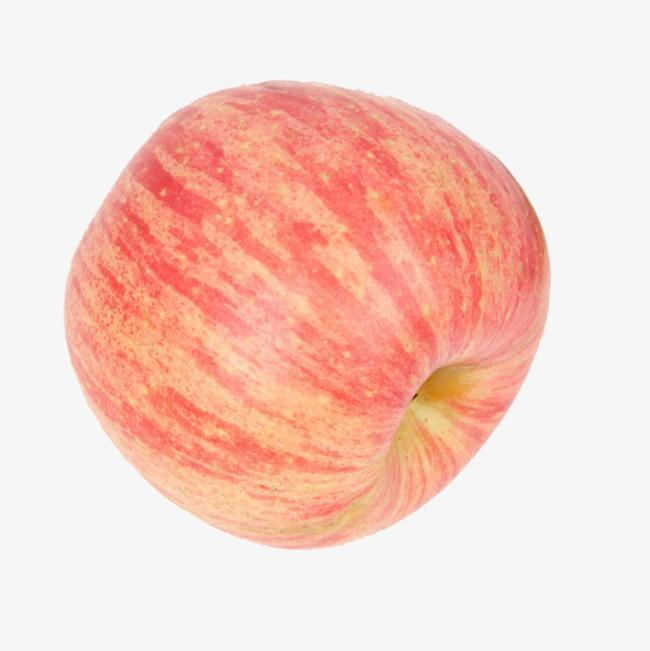apple: (61, 77, 556, 551)
